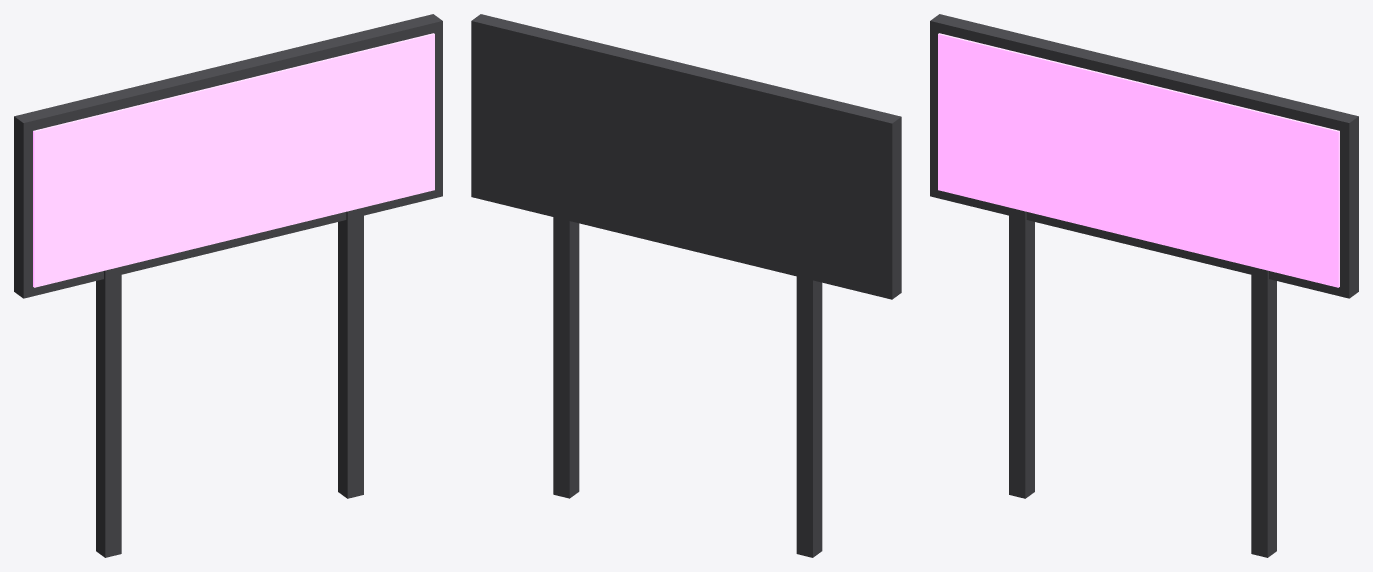
The model's file is billboard.glb.
3 views of the same model, side by side, from view 1: azimuth 30°, elevation 25°; view 2: azimuth 150°, elevation 25°; view 3: azimuth 330°, elevation 25° (orthographic).
Parts seen in each view (by area): view 1: Billboard; view 2: Billboard; view 3: Billboard.
Boxes of the visible parts, x1=… form: Billboard: x1=14, y1=14, x2=442, y2=557; Billboard: x1=471, y1=14, x2=901, y2=557; Billboard: x1=930, y1=14, x2=1358, y2=557.
Bounding box in the file's own units: 9 × 9.3 × 0.41.
